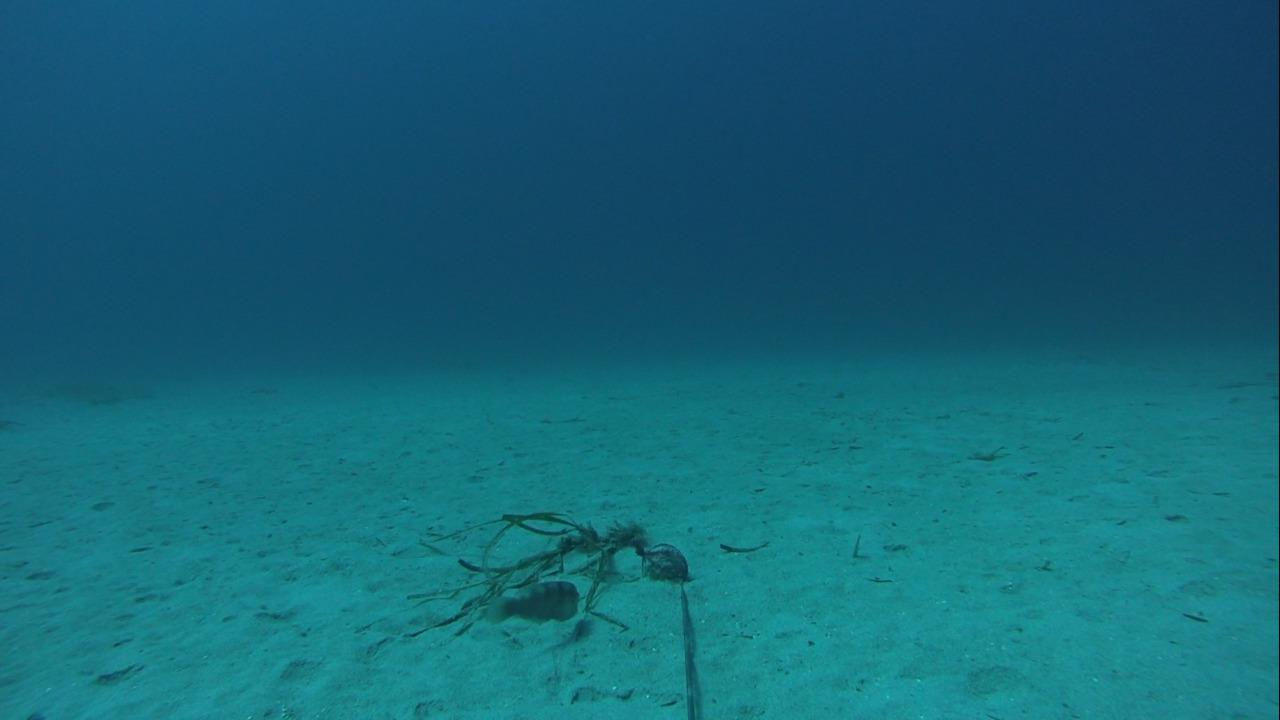raor: (475, 575, 582, 627)
